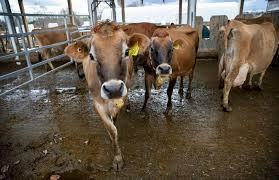cow: (65, 21, 151, 172), (216, 19, 279, 113), (137, 26, 198, 120), (32, 23, 84, 71), (117, 22, 157, 74)
